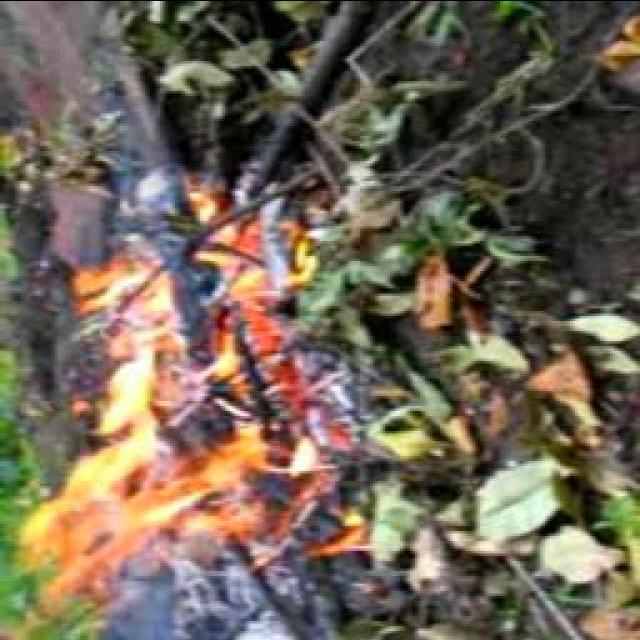Fire: (20, 187, 304, 596)
